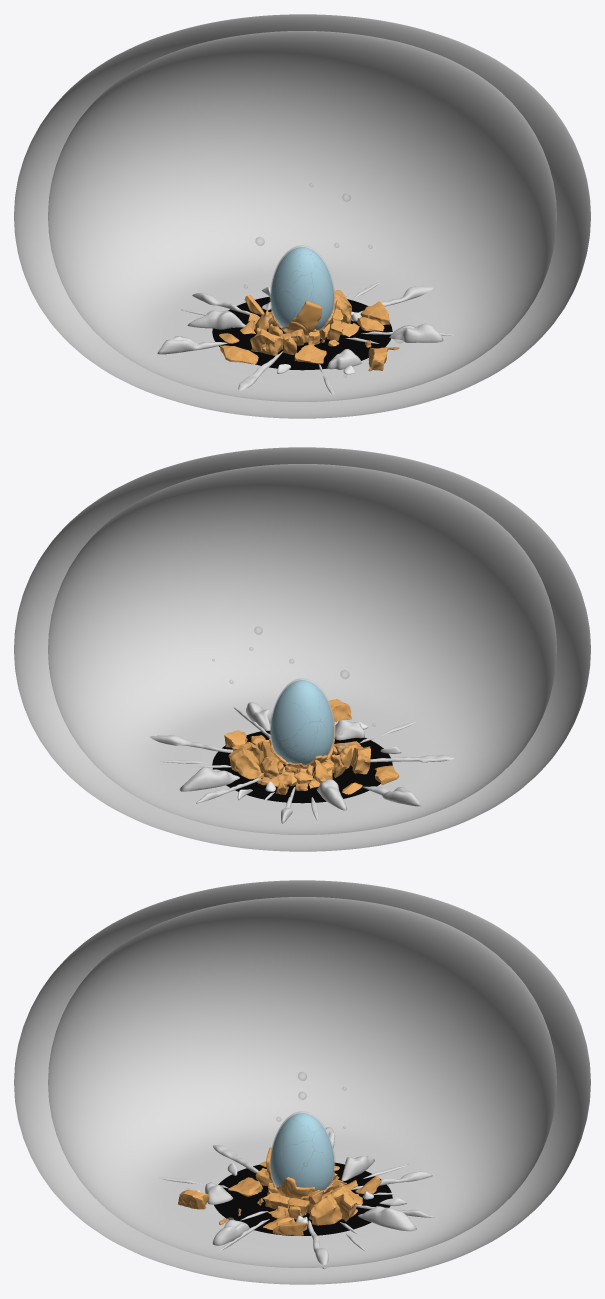
Rendered from PXLs_egg361.glb.
The picture shows the model from 3 angles, top to bottom: view 1: azimuth 30°, elevation 25°; view 2: azimuth 150°, elevation 25°; view 3: azimuth 270°, elevation 25°; orthographic projection.
Visible parts, largest first — view 1: innerCylinder, outerCylinder, smoke4, smoke3, floorBase, pinkGooBlob5, pinkGooBlob7, pinkGooStreak13, rockDebris.010, brokenEggCrust.001; view 2: innerCylinder, outerCylinder, smoke4, smoke3, floorBase, crackedEgg.011, crackedEgg.008, pinkGooBlob8, rockDebris.022, pinkGooStreak13, pinkGooBlob7; view 3: innerCylinder, outerCylinder, smoke4, smoke3, floorBase, pinkGooBlob8, crackedEgg.012, rockDebris.004, crackedEgg.013, pinkGooBlob5, pinkGooBlob7.
Part boxes in pixels (x1,y1,x2,y2): innerCylinder: [48, 31, 556, 401]; outerCylinder: [14, 14, 590, 418]; smoke4: [270, 245, 334, 330]; smoke3: [270, 246, 334, 330]; floorBase: [212, 297, 392, 370]; pinkGooBlob5: [389, 323, 443, 342]; pinkGooBlob7: [187, 310, 245, 329]; pinkGooStreak13: [157, 336, 227, 354]; rockDebris.010: [250, 329, 281, 355]; brokenEggCrust.001: [292, 300, 322, 335]; innerCylinder: [48, 464, 556, 834]; outerCylinder: [14, 447, 590, 851]; smoke4: [270, 678, 334, 765]; smoke3: [270, 679, 334, 765]; floorBase: [212, 730, 392, 803]; crackedEgg.011: [274, 694, 309, 739]; crackedEgg.008: [283, 680, 320, 721]; pinkGooBlob8: [179, 767, 239, 791]; rockDebris.022: [228, 746, 263, 779]; pinkGooStreak13: [362, 786, 420, 806]; pinkGooBlob7: [316, 779, 347, 810]; innerCylinder: [48, 897, 556, 1267]; outerCylinder: [14, 880, 590, 1284]; smoke4: [270, 1111, 335, 1190]; smoke3: [270, 1112, 334, 1190]; floorBase: [214, 1162, 392, 1235]; pinkGooBlob8: [358, 1206, 416, 1231]; crackedEgg.012: [281, 1141, 314, 1179]; rockDebris.004: [309, 1194, 342, 1225]; crackedEgg.013: [280, 1120, 313, 1151]; pinkGooBlob5: [212, 1219, 249, 1245]; pinkGooBlob7: [341, 1156, 374, 1180].
Bounding box in the file's own units: 16.7 × 7.92 × 16.7.
Materials: 8 (2 with a texture image).
